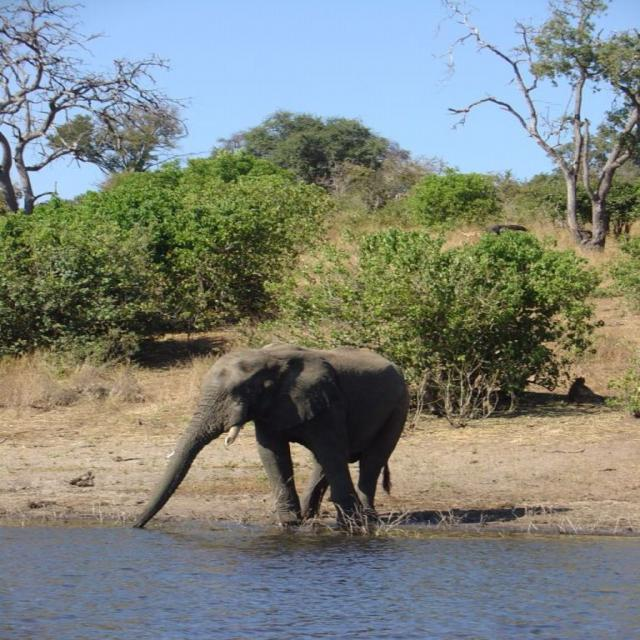elephant: (138, 342, 435, 532)
